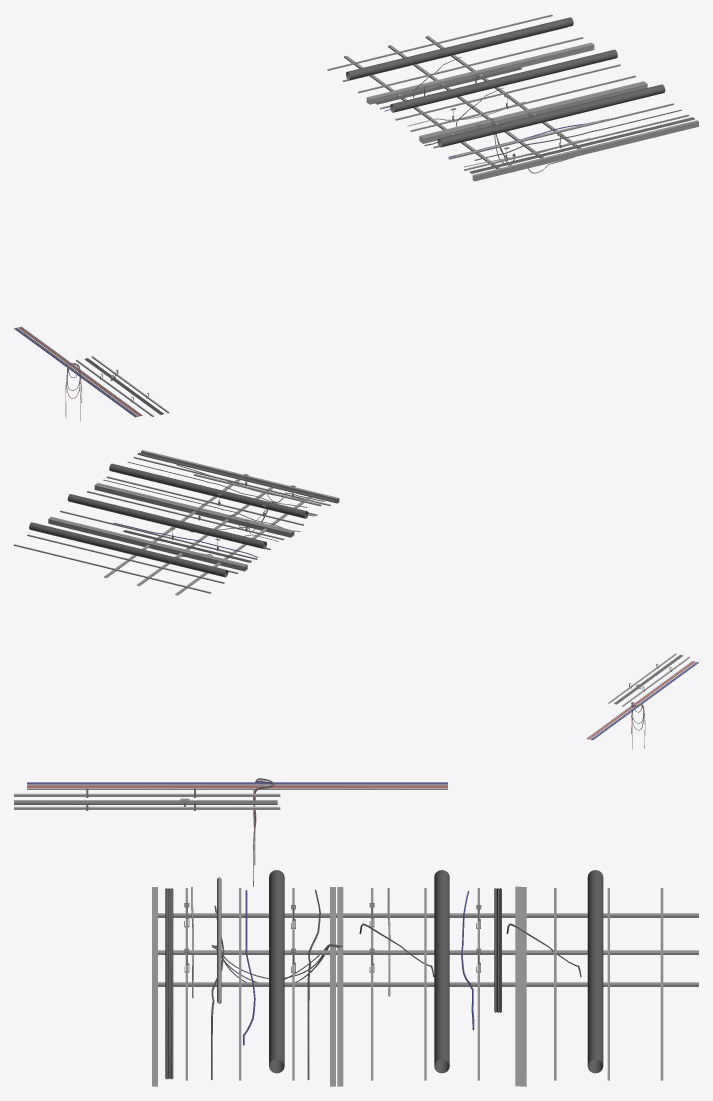
3 views of the same model, one above another, from view 1: azimuth 30°, elevation 25°; view 2: azimuth 150°, elevation 25°; view 3: azimuth 270°, elevation 25° (orthographic). The views are drawn at different scales.
Visible parts, largest first — view 1: SM_H_Building_FutureTech_Dock_06_InterWall_01; view 2: SM_H_Building_FutureTech_Dock_06_InterWall_01; view 3: SM_H_Building_FutureTech_Dock_06_InterWall_01.
Part boxes in pixels (x1,y1,x2,y2): SM_H_Building_FutureTech_Dock_06_InterWall_01: (14,14,698,420); SM_H_Building_FutureTech_Dock_06_InterWall_01: (14,450,698,749); SM_H_Building_FutureTech_Dock_06_InterWall_01: (14,778,698,1086).
Bounding box in the file's own units: 378 × 669 × 199.
